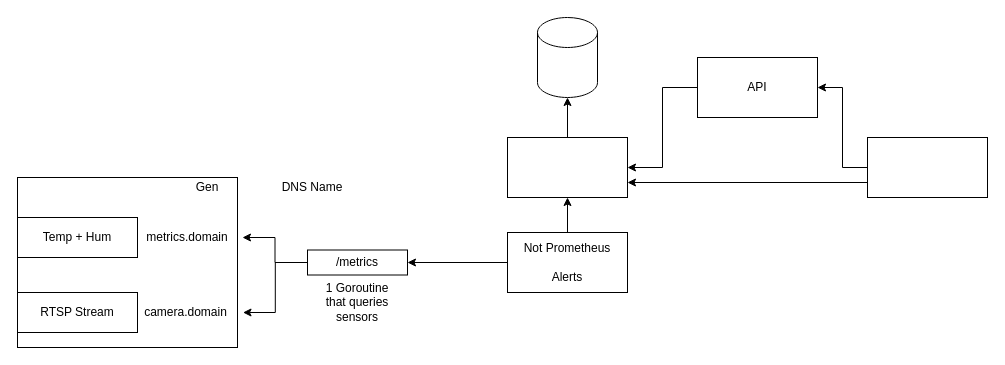
Some shapes in this 1005 by 365 pixel diagram are drawn without their labels. The shapes that lost their labels are listed below. From the top down, each one's centre as x and y in pixels, then its label:
the point at 567,167: SQL Service
the point at 927,167: Client
